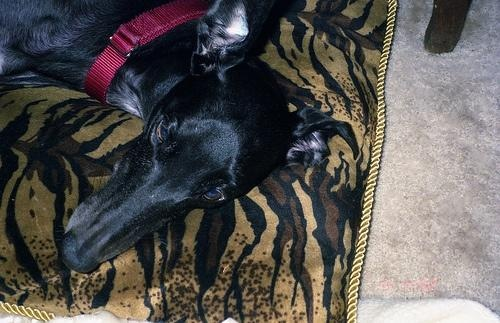dog: (1, 1, 361, 275)
